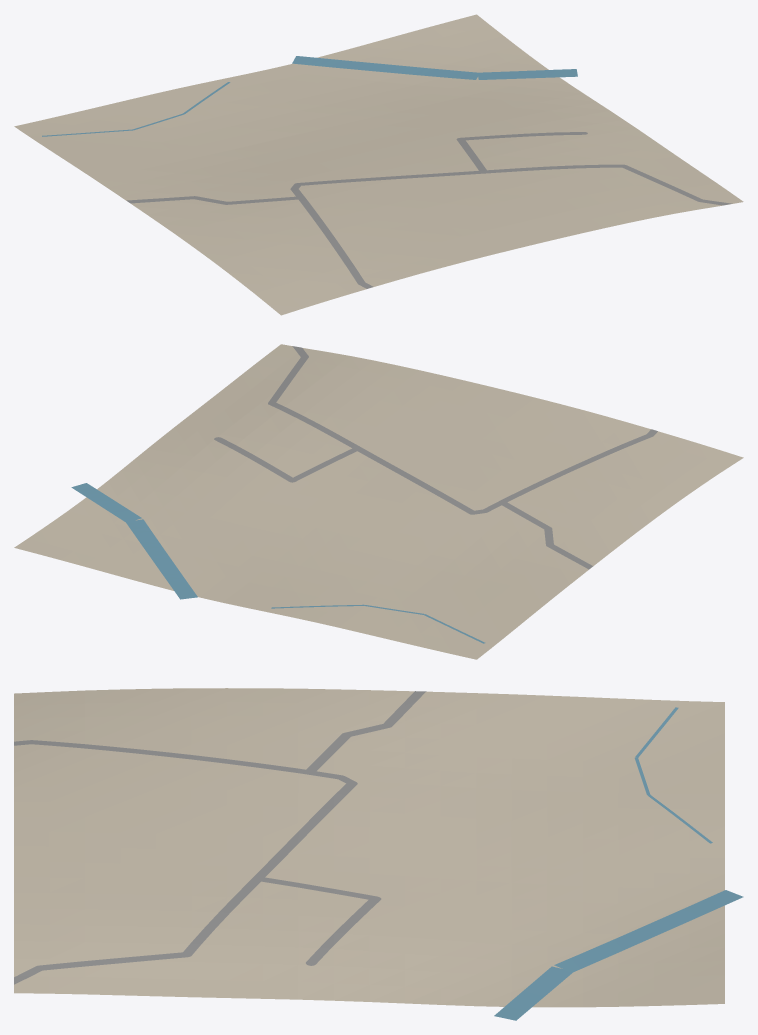
Rendered from bolak_-17_9.glb.
3 renders of one model, top to bottom at view 1: azimuth 30°, elevation 25°; view 2: azimuth 150°, elevation 25°; view 3: azimuth 270°, elevation 25°, orthographic. The views are drawn at different scales.
Parts seen in each view (by area): view 1: Yer_Tuproq-col, Yol_Mahalla-col, Suv; view 2: Yer_Tuproq-col, Yol_Mahalla-col, Suv; view 3: Yer_Tuproq-col, Yol_Mahalla-col, Suv.
Boxes of the visible parts, x1=… form: Yer_Tuproq-col: x1=14, y1=14, x2=743, y2=315; Yol_Mahalla-col: x1=126, y1=132, x2=732, y2=288; Suv: x1=42, y1=56, x2=577, y2=136; Yer_Tuproq-col: x1=14, y1=344, x2=743, y2=659; Yol_Mahalla-col: x1=214, y1=346, x2=657, y2=569; Suv: x1=71, y1=483, x2=485, y2=643; Yer_Tuproq-col: x1=14, y1=688, x2=724, y2=1007; Yol_Mahalla-col: x1=14, y1=691, x2=426, y2=984; Suv: x1=494, y1=707, x2=743, y2=1020.
Size of what is drawn, in the model's own units: 418 by 17.4 by 411.
